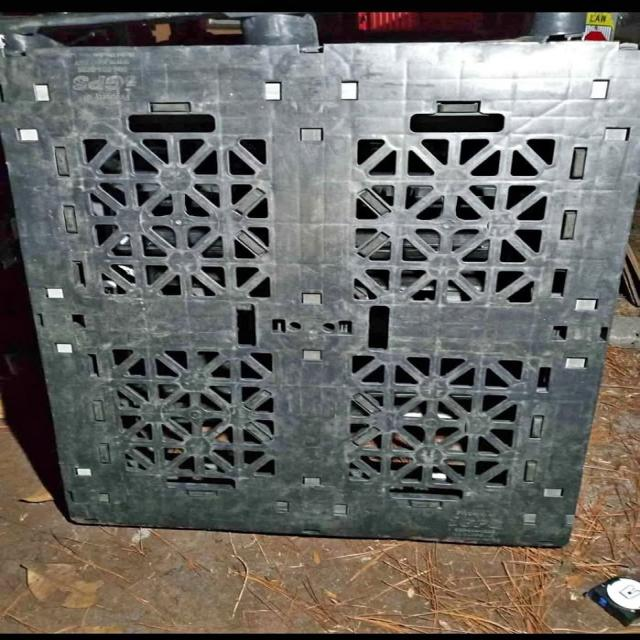igps: (0, 27, 639, 555)
